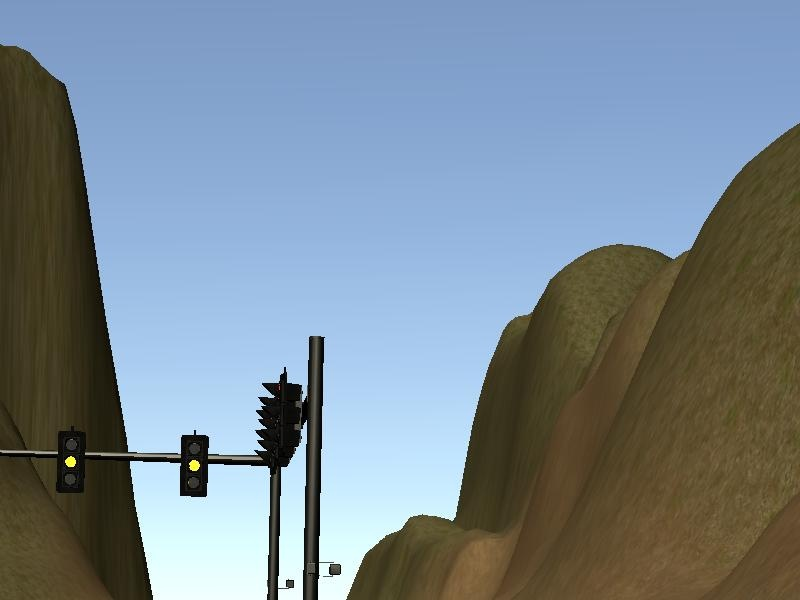yellow: (59, 433, 86, 495), (182, 437, 209, 497)
